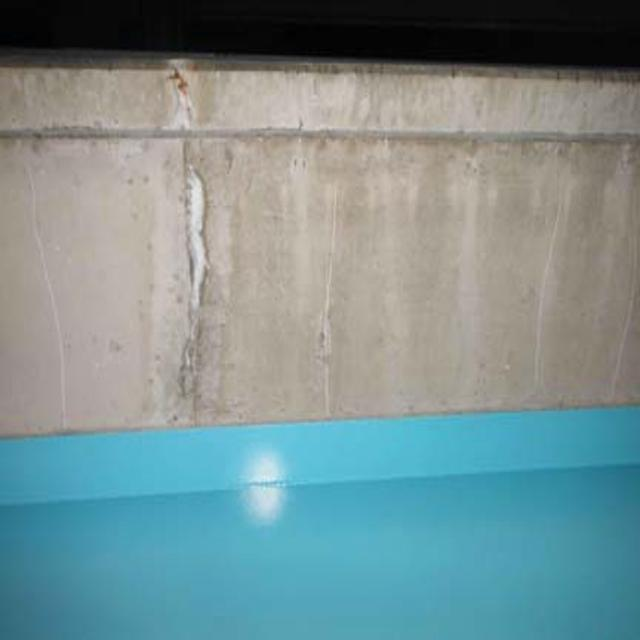freelime: (164, 55, 234, 322)
